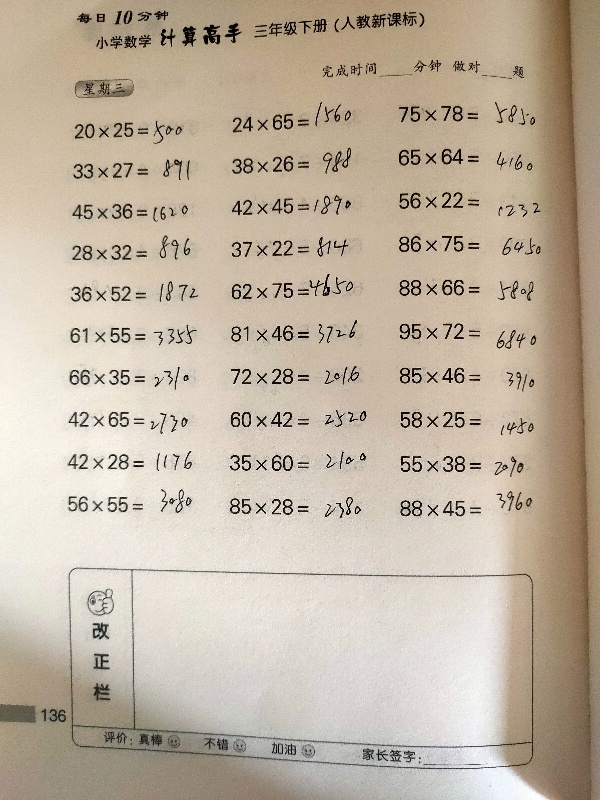equation: (395, 93, 552, 139), (387, 316, 551, 359), (381, 268, 549, 308), (383, 183, 548, 223), (396, 401, 549, 443), (220, 397, 377, 436), (229, 485, 375, 525), (223, 184, 360, 225), (392, 443, 531, 483), (388, 364, 555, 397), (219, 272, 372, 308), (389, 140, 537, 177), (52, 488, 200, 525), (212, 228, 368, 263), (55, 356, 204, 392), (59, 233, 196, 272), (216, 353, 363, 389), (391, 228, 551, 261), (388, 487, 552, 519), (223, 97, 356, 136), (221, 443, 373, 477), (64, 153, 204, 189), (63, 404, 199, 441), (221, 145, 364, 180), (216, 311, 363, 345), (60, 279, 216, 309), (63, 109, 192, 145), (60, 196, 200, 229), (55, 451, 205, 481), (60, 317, 199, 349)
